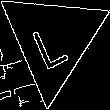L_NW: (29, 10, 75, 70)
